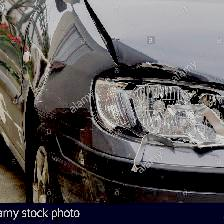head_lamp: (55, 56, 223, 153)
